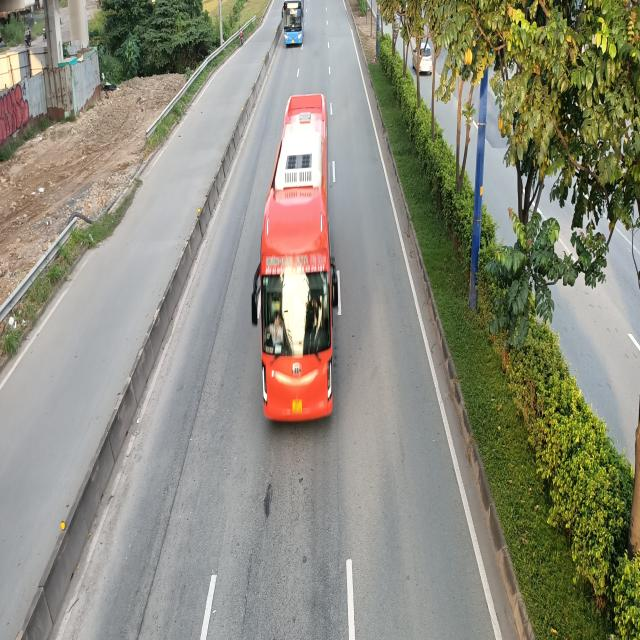coach: (251, 95, 341, 421), (281, 0, 305, 47)
